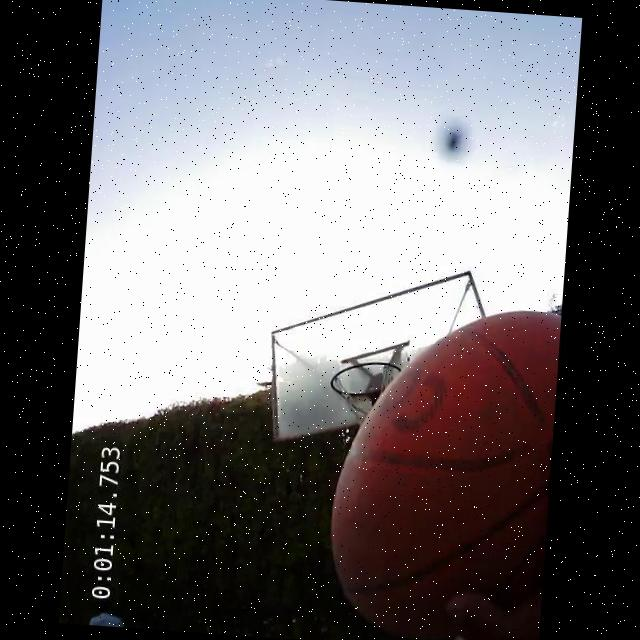ball: (321, 295, 562, 640)
hoop: (328, 354, 397, 404)
